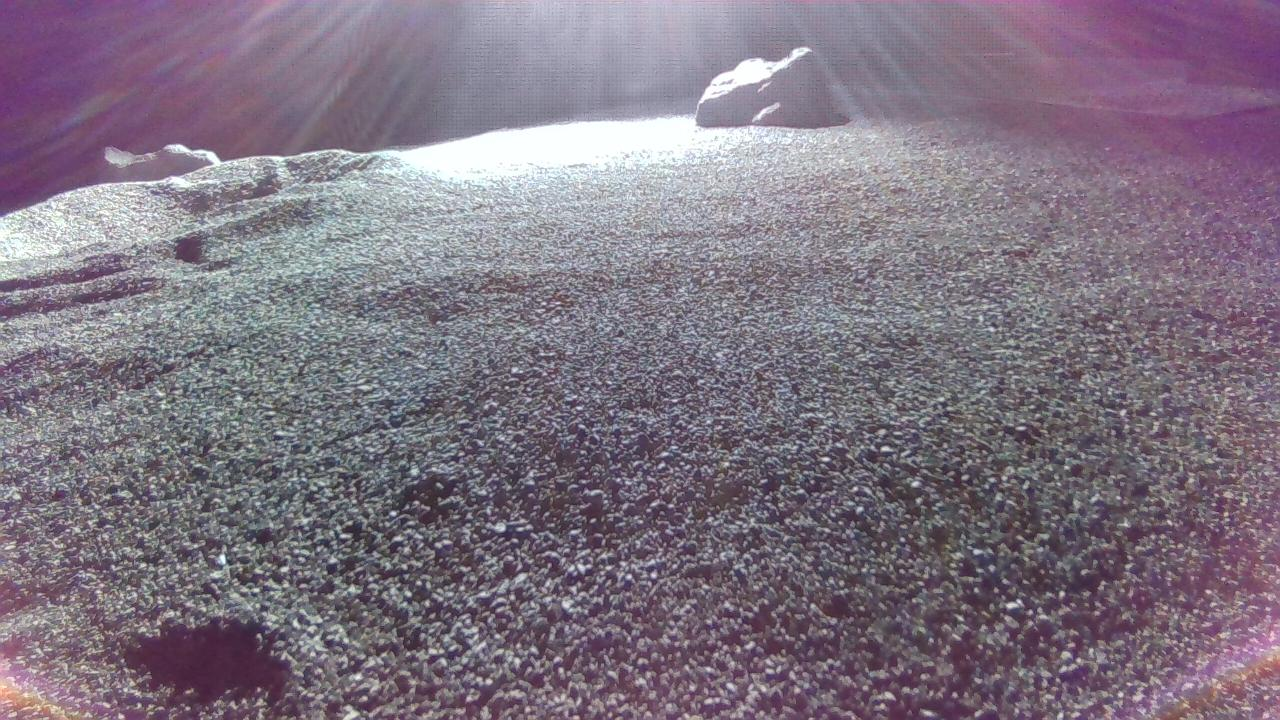rock: (697, 45, 849, 126), (100, 143, 220, 181)
